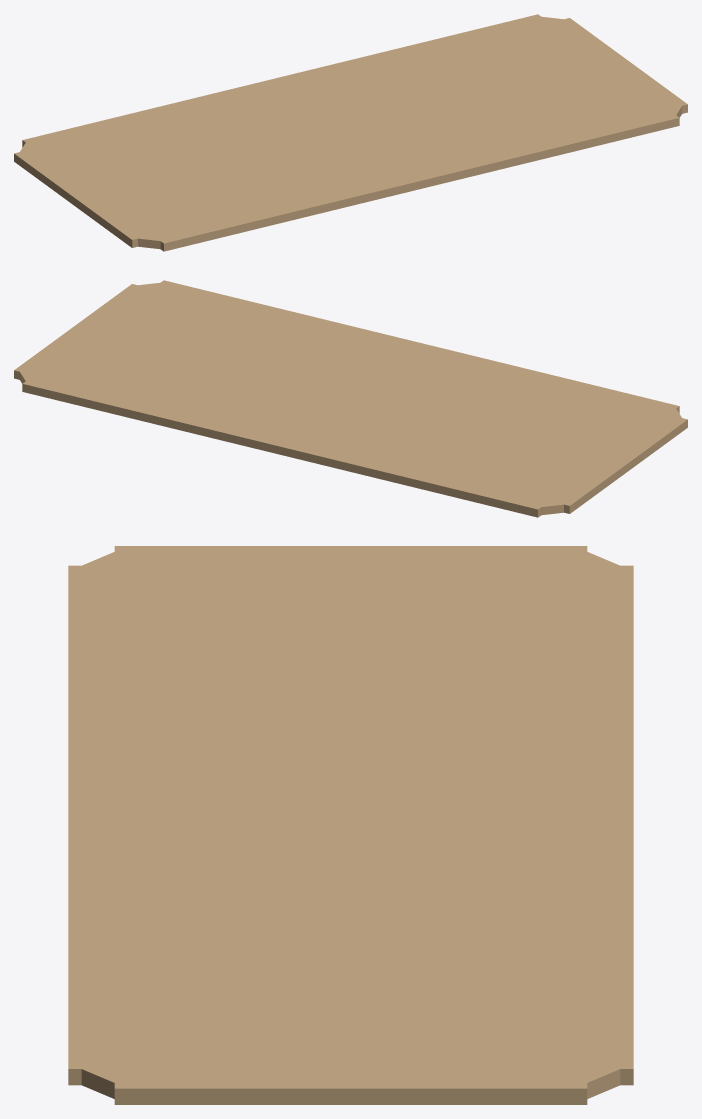
Rendered from rack-inset-board.glb.
3 renders of one model, top to bottom at view 1: azimuth 30°, elevation 25°; view 2: azimuth 150°, elevation 25°; view 3: azimuth 270°, elevation 25°, orthographic. The views are drawn at different scales.
Parts seen in each view (by area): view 1: InsetPlywood; view 2: InsetPlywood; view 3: InsetPlywood.
Boxes of the visible parts, box(x1,y1,x2,y2) form: InsetPlywood: box(14, 14, 687, 251); InsetPlywood: box(14, 280, 687, 517); InsetPlywood: box(68, 546, 633, 1104).
Bounding box in the file's own units: 0.858 × 0.012 × 0.378.
